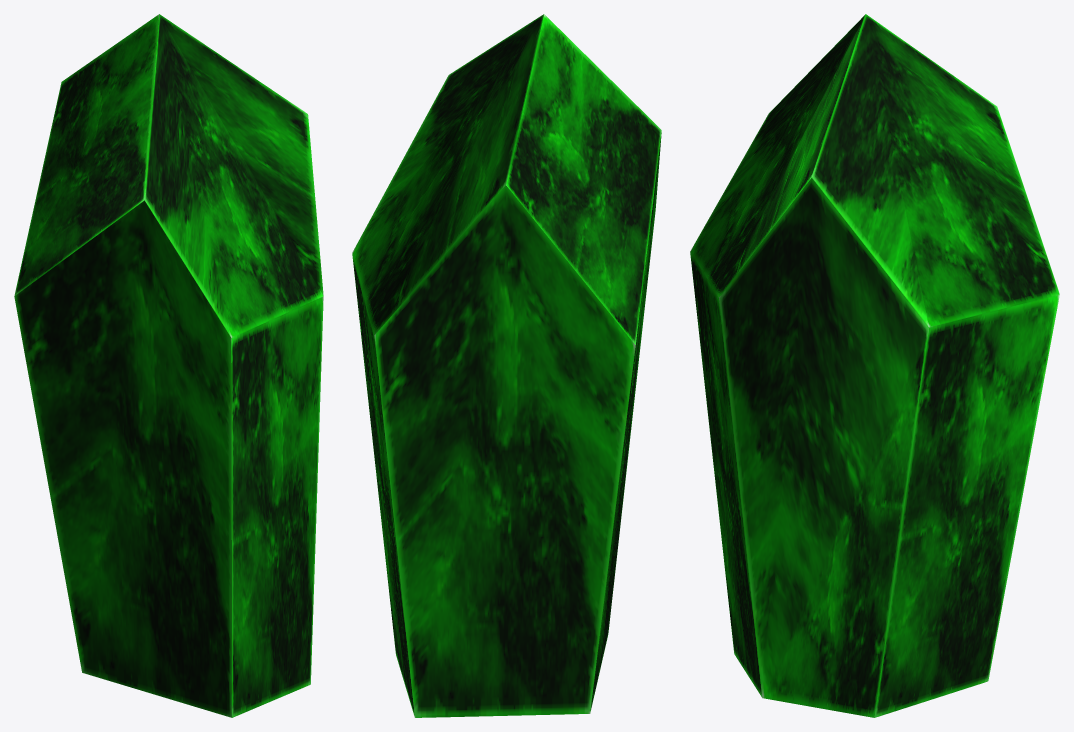
File: c_Cris2a.glb
The picture shows the model from 3 angles, left to right: view 1: azimuth 30°, elevation 25°; view 2: azimuth 150°, elevation 25°; view 3: azimuth 270°, elevation 25°; orthographic projection. The views are drawn at different scales.
Parts seen in each view (by area): view 1: c_Cris2a-col; view 2: c_Cris2a-col; view 3: c_Cris2a-col.
Part boxes in pixels (left/top/right/bottom): c_Cris2a-col: left=14, top=14, right=323, bottom=717; c_Cris2a-col: left=352, top=14, right=661, bottom=717; c_Cris2a-col: left=690, top=14, right=1059, bottom=717.
Size of the model in its own units: 0.2675 by 0.6166 by 0.3241.
1 material, 1 textured.
